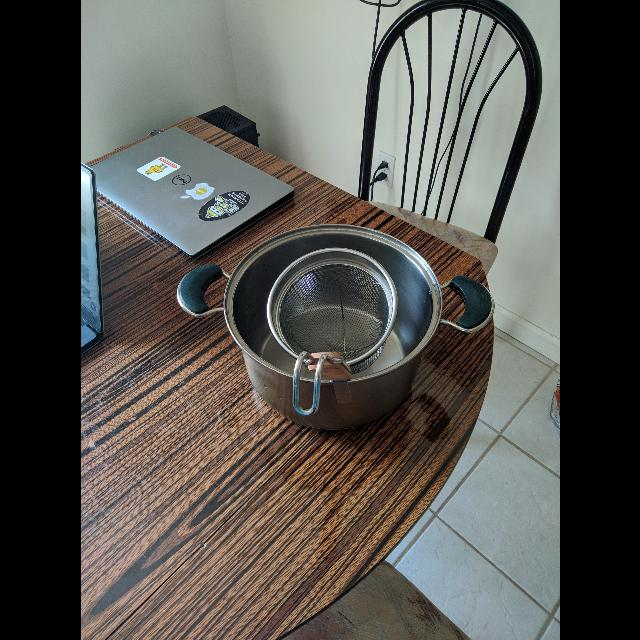Handle: (284, 348, 369, 419)
Strainer: (267, 251, 396, 370)
